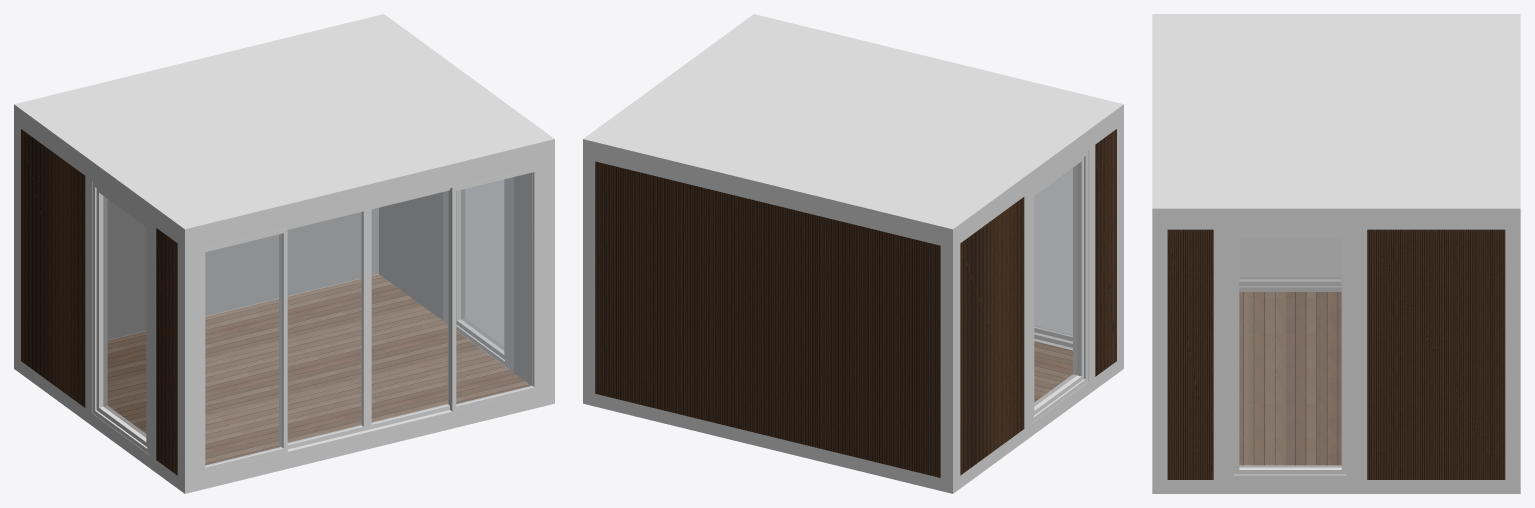
Rendered from Pod_size_15x12_standard_with_windows.glb.
3 views of the same model, side by side, from view 1: azimuth 30°, elevation 25°; view 2: azimuth 150°, elevation 25°; view 3: azimuth 270°, elevation 25° (orthographic). The views are drawn at different scales.
Parts seen in each view (by area): view 1: frame (×28), Geom3D (×4), deck2, interiorwall (×3), exteriorwall (×2), Geom3D_ (×2); view 2: exteriorwall (×3), frame (×12), Geom3D_, Geom3D, deck2; view 3: frame (×11), exteriorwall (×2), Geom3D_ (×2), deck2.
Part boxes in pixels (x1,y1,x2,y2): frame (×28): (14, 14, 554, 493); Geom3D (×4): (205, 172, 533, 466); deck2: (107, 274, 530, 464); interiorwall (×3): (107, 172, 531, 385); exteriorwall (×2): (21, 129, 177, 475); Geom3D_ (×2): (103, 180, 503, 437); exteriorwall (×3): (595, 129, 1116, 477); frame (×12): (583, 14, 1123, 493); Geom3D_: (1034, 165, 1077, 406); Geom3D: (1035, 168, 1072, 335); deck2: (1034, 341, 1072, 401); frame (×11): (1152, 14, 1520, 493); exteriorwall (×2): (1167, 229, 1505, 479); Geom3D_ (×2): (1239, 238, 1341, 467); deck2: (1239, 292, 1341, 465).
Size of the model in its own units: 116 by 79.35 by 92.9.
Materials: 76 (29 with a texture image).
